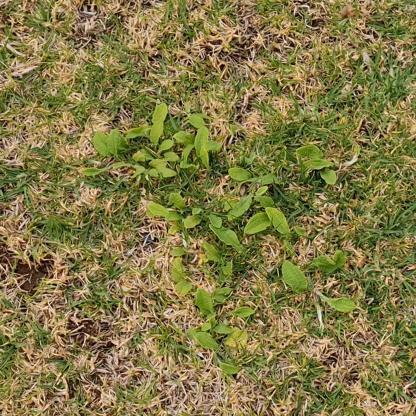Weeds: (80, 99, 356, 374)
